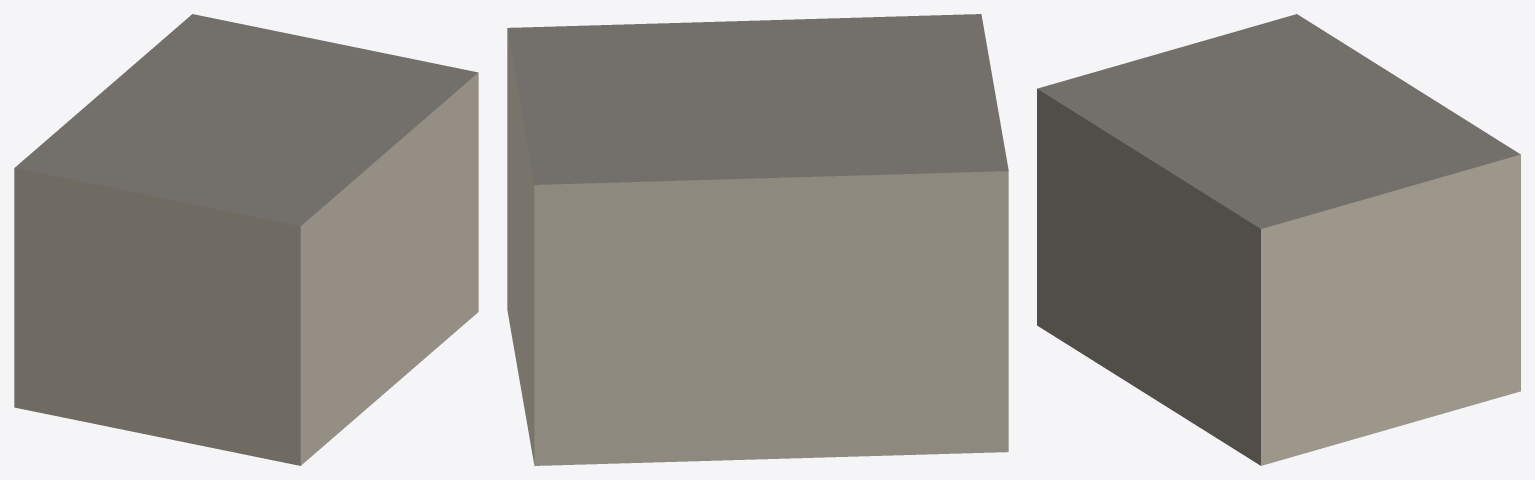
3 views of the same model, side by side, from view 1: azimuth 30°, elevation 25°; view 2: azimuth 150°, elevation 25°; view 3: azimuth 270°, elevation 25° (orthographic). The views are drawn at different scales.
Parts seen in each view (by area): view 1: HP-w1287059331; view 2: HP-w1287059331; view 3: HP-w1287059331.
Boxes of the visible parts, bbox=[...] form: HP-w1287059331: bbox=[14, 14, 478, 465]; HP-w1287059331: bbox=[507, 14, 1008, 465]; HP-w1287059331: bbox=[1037, 14, 1520, 465].
Size of the model in its own units: 35.06 by 18 by 33.32.
